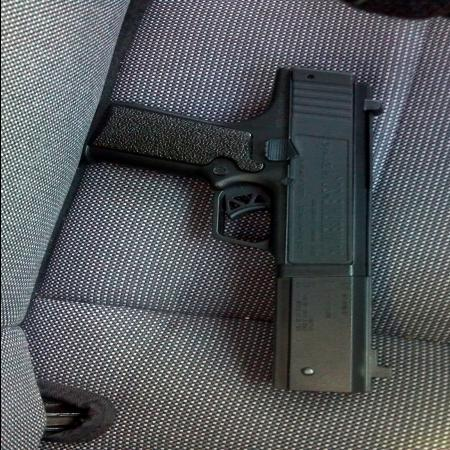Pistol: (81, 67, 396, 392)
